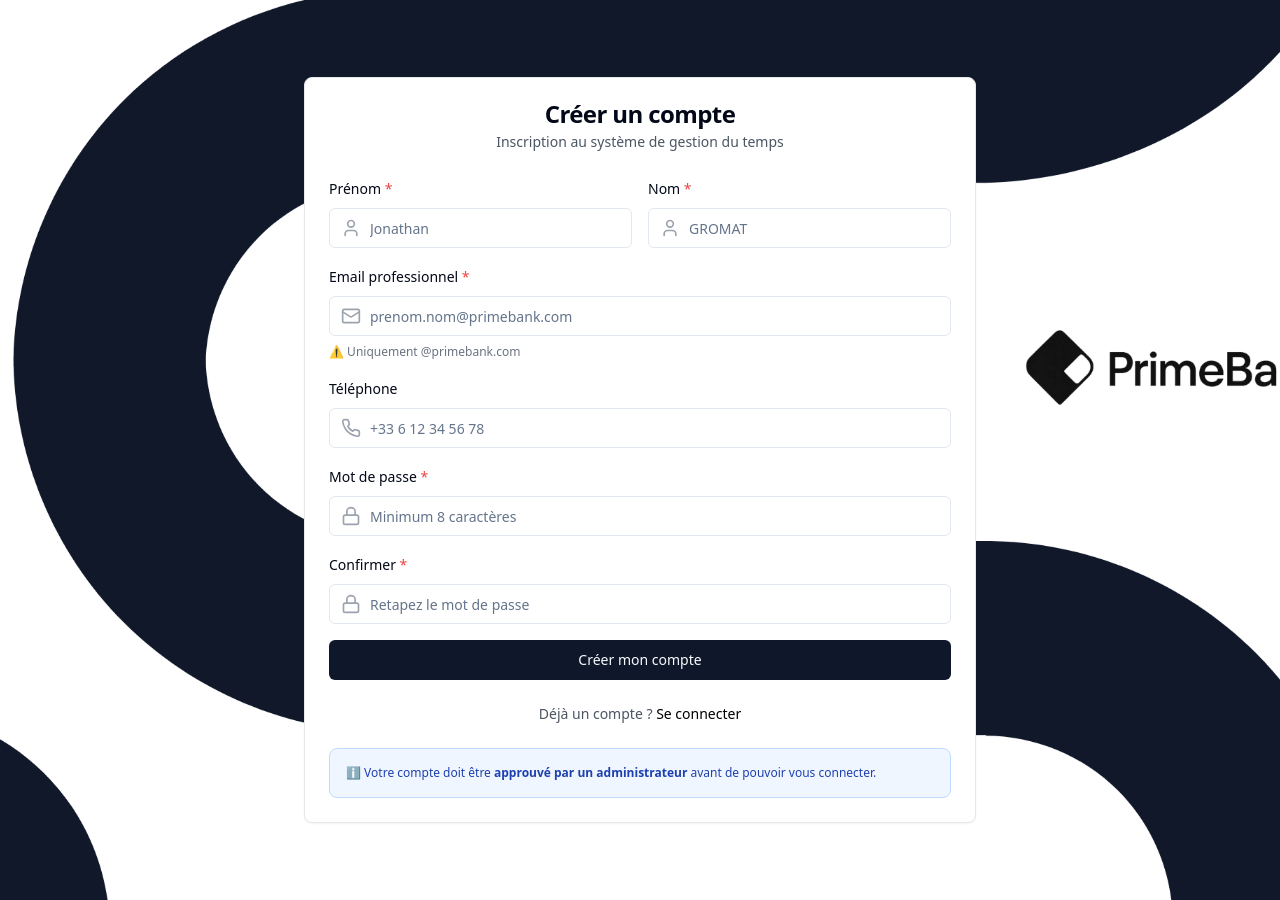
Test: RegisterPage › validates password length
In the field with placeholder "prenom.nom@primebank.com": (640, 316) [329,296,951,336], type "test@primebank.com"
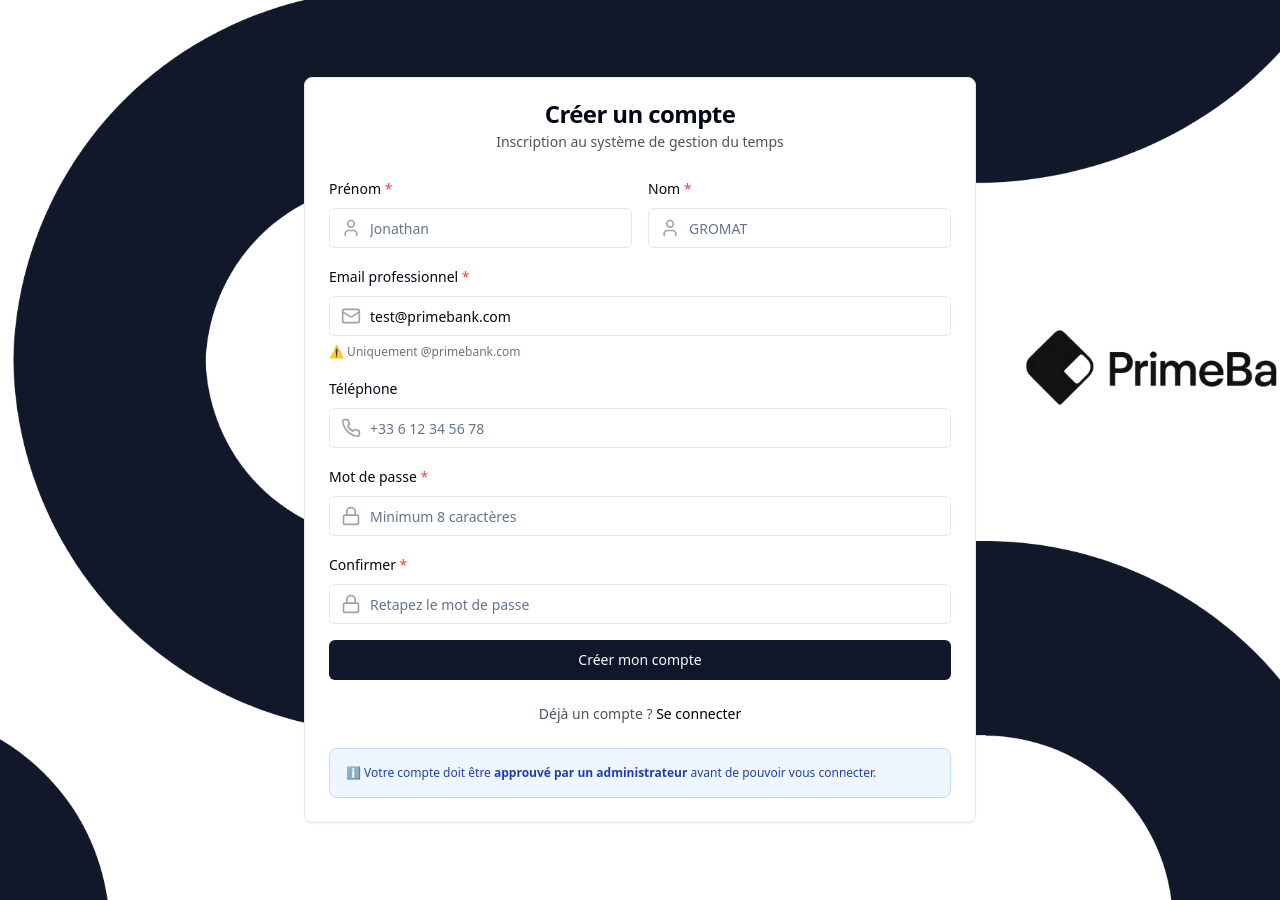
In the password field labelled "Mot de passe *": (640, 516) [329,496,951,536], type "short"
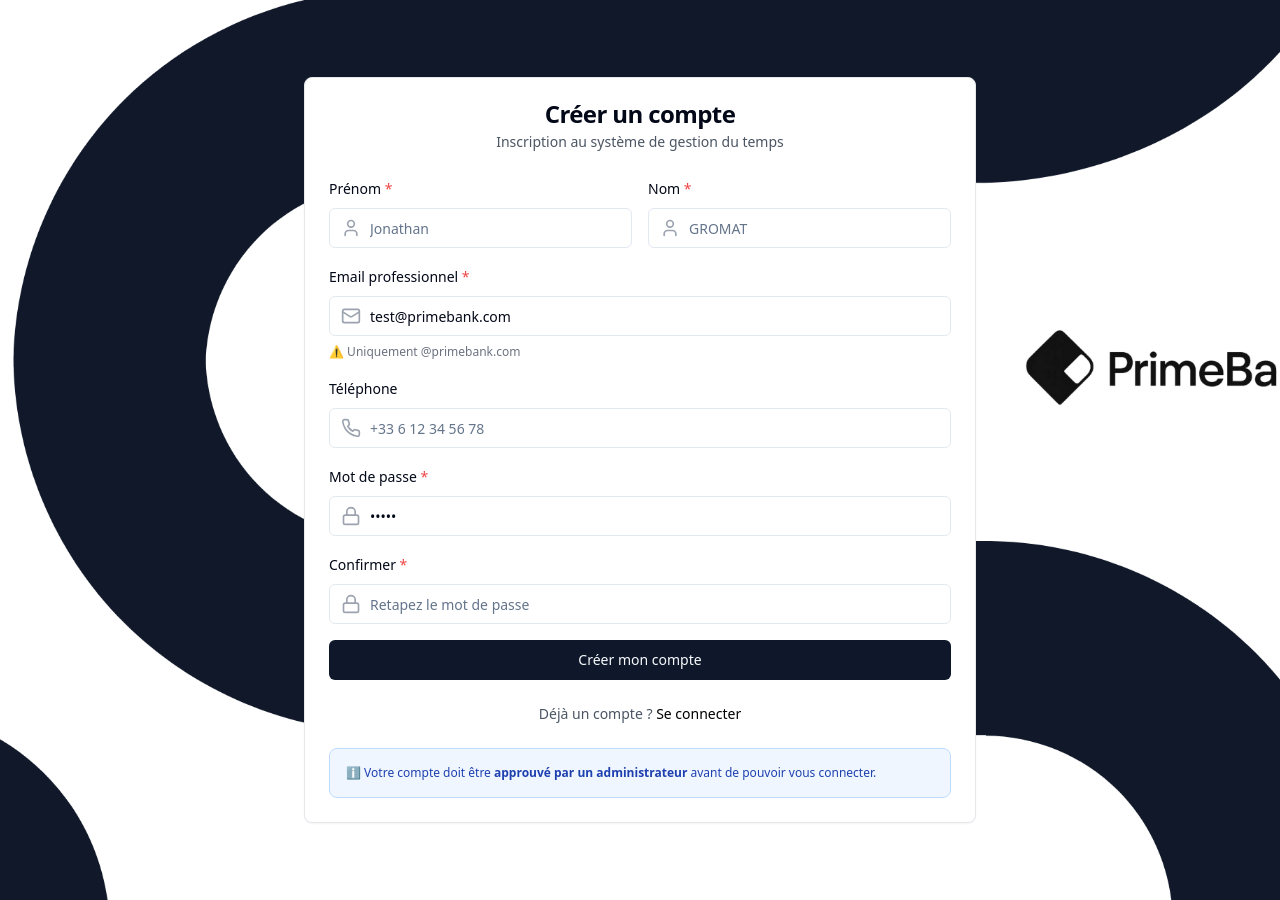
Submit the form with test id "register-form", box [329,176,951,680]
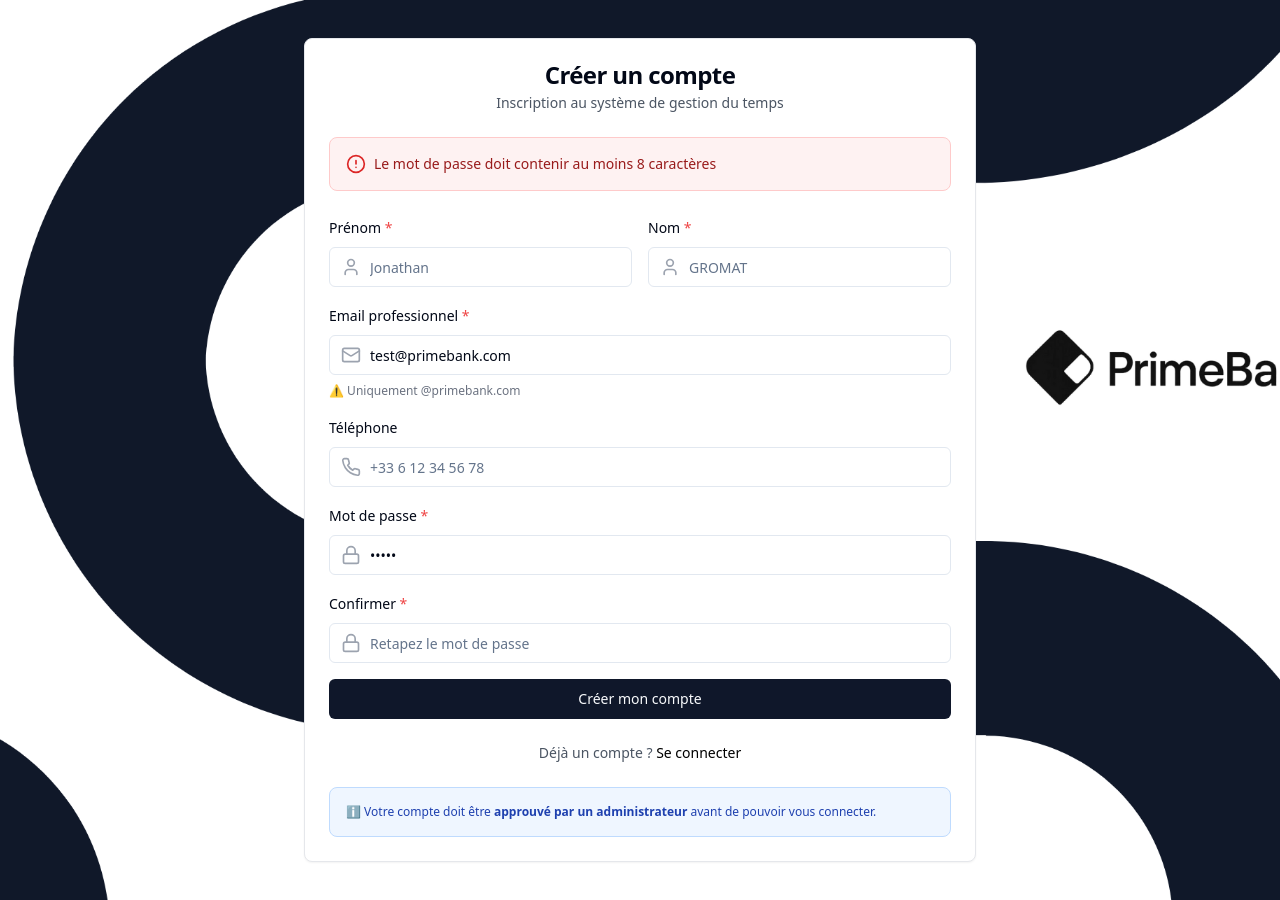
Expected: the text "Le mot de passe doit contenir au moins 8 caractères" is shown, [374,154,716,174]
